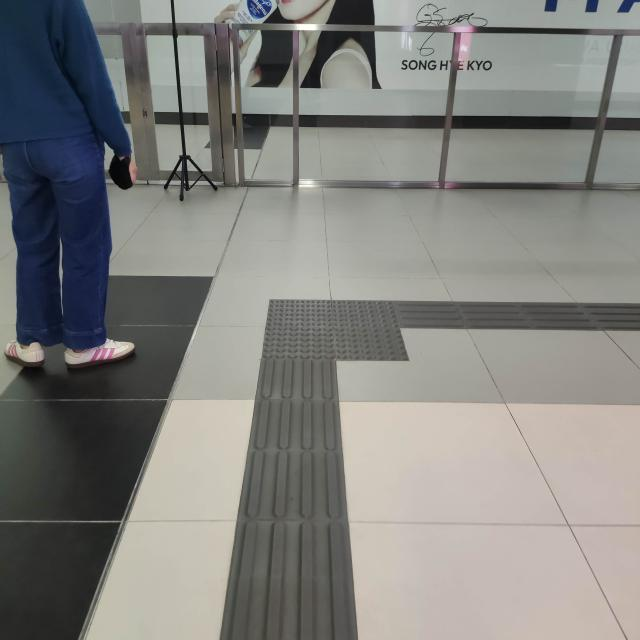kanan: (232, 270, 543, 400)
